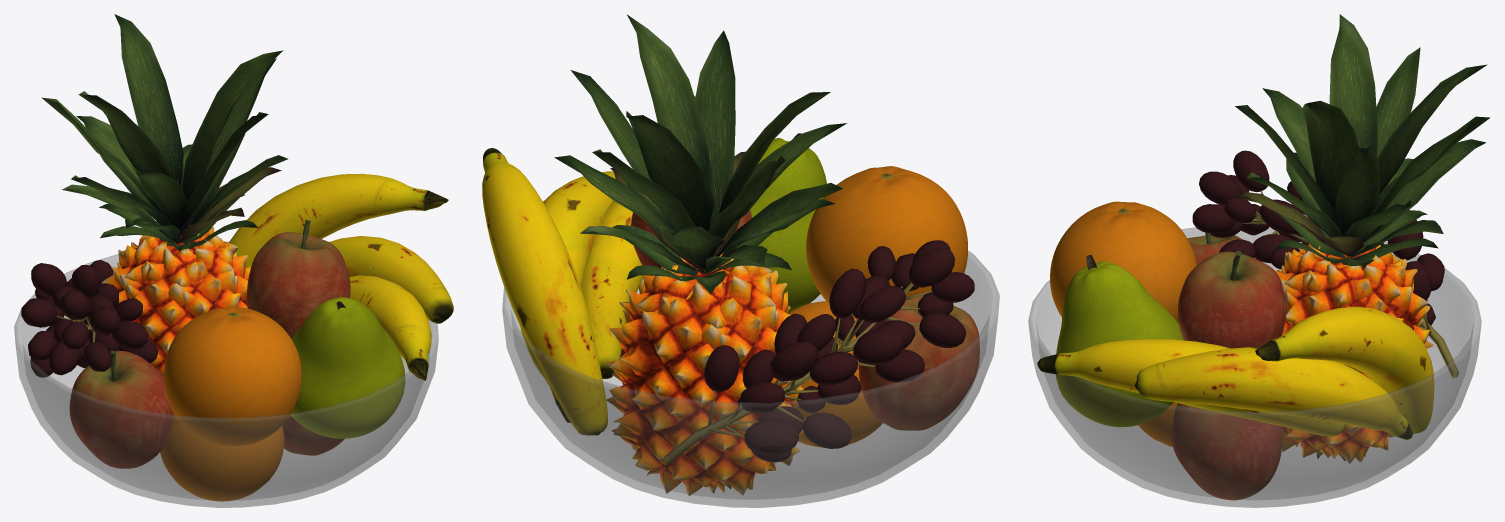
File: fruit_bowl.glb
The picture shows the model from 3 angles, left to right: view 1: azimuth 30°, elevation 25°; view 2: azimuth 150°, elevation 25°; view 3: azimuth 270°, elevation 25°; orthographic projection. The views are drawn at different scales.
Parts seen in each view (by area): view 1: pineapple.001, glass_2, orange, pear, glass_1, grapes, apple, banana.002, apple.002, orange.001, banana.001, banana (+1 smaller); view 2: pineapple.001, glass_2, grapes, banana.002, glass_1, orange, apple, banana, pear, banana.001, orange.001, apple.002; view 3: glass_2, pineapple.001, glass_1, banana.001, pear, banana.002, orange, grapes, apple.002, apple.001, banana, orange.001 (+1 smaller).
Boxes of the visible parts, <box> form: pineapple.001: <box>41,14,287,376</box>; glass_2: <box>14,241,438,507</box>; orange: <box>163,306,301,446</box>; pear: <box>290,297,405,438</box>; glass_1: <box>18,255,434,500</box>; grapes: <box>21,260,158,377</box>; apple: <box>69,350,173,468</box>; banana.002: <box>229,173,448,267</box>; apple.002: <box>247,220,350,337</box>; orange.001: <box>160,413,284,501</box>; banana.001: <box>329,236,453,323</box>; banana: <box>349,275,431,380</box>; pineapple.001: <box>554,14,847,495</box>; glass_2: <box>502,250,999,507</box>; grapes: <box>664,240,974,465</box>; banana.002: <box>482,148,607,435</box>; glass_1: <box>506,252,995,499</box>; orange: <box>806,166,967,314</box>; apple: <box>858,294,979,430</box>; banana: <box>581,200,643,378</box>; pear: <box>750,133,826,313</box>; banana.001: <box>520,171,615,422</box>; orange.001: <box>788,301,882,447</box>; apple.002: <box>631,210,751,267</box>; glass_2: <box>1028,227,1481,507</box>; pineapple.001: <box>1235,14,1489,463</box>; glass_1: <box>1032,227,1477,499</box>; banana.001: <box>1135,347,1412,439</box>; pear: <box>1056,255,1183,427</box>; banana.002: <box>1255,306,1434,433</box>; orange: <box>1050,201,1196,323</box>; grapes: <box>1192,150,1458,378</box>; apple.002: <box>1178,251,1286,348</box>; apple.001: <box>1171,403,1282,500</box>; banana: <box>1037,339,1345,436</box>; orange.001: <box>1138,402,1177,446</box>.
Bounding box in the file's own units: 9.53 × 8.55 × 8.76.
Materials: 10 (8 with a texture image).
